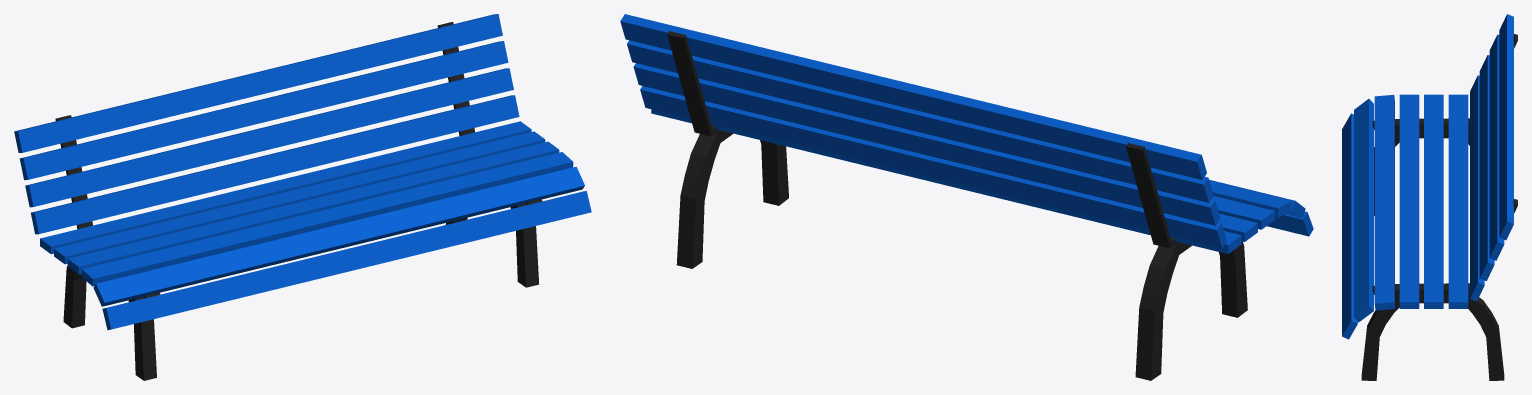
Rendered from bench_10.fbx.
3 views of the same model, side by side, from view 1: azimuth 30°, elevation 25°; view 2: azimuth 150°, elevation 25°; view 3: azimuth 270°, elevation 25° (orthographic). The views are drawn at different scales.
Parts seen in each view (by area): view 1: Куб.007, Куб.018, Куб.017, Куб.015, Куб.016, Куб.019, Куб, Куб.001, Куб.003, Куб.002, Куб.005, Куб.004; view 2: Куб.016, Куб.017, Куб.015, Куб.018, Куб.005, Куб.004, Куб.002, Куб, Куб.001, Куб.019, Куб.003; view 3: Куб.001, Куб.002, Куб, Куб.003, Куб.007, Куб.016, Куб.004, Куб.019, Куб.017, Куб.015, Куб.018, Куб.005.
Part boxes in pixels (box(x1,y1,x2,y2)): Куб.007: box(93, 166, 584, 306); Куб.018: box(31, 95, 519, 234); Куб.017: box(25, 68, 513, 207); Куб.015: box(19, 41, 508, 180); Куб.016: box(14, 14, 502, 152); Куб.019: box(102, 191, 591, 330); Куб: box(81, 152, 573, 286); Куб.001: box(67, 141, 559, 274); Куб.003: box(54, 131, 545, 264); Куб.002: box(40, 121, 531, 254); Куб.005: box(55, 115, 160, 380); Куб.004: box(437, 22, 542, 287); Куб.016: box(620, 14, 1206, 179); Куб.017: box(633, 63, 1220, 225); Куб.015: box(627, 40, 1213, 202); Куб.018: box(640, 86, 1226, 248); Куб.005: box(1126, 143, 1247, 380); Куб.004: box(667, 31, 788, 268); Куб.002: box(651, 109, 1241, 253); Куб: box(1209, 181, 1291, 217); Куб.001: box(1211, 196, 1274, 229); Куб.019: box(1267, 211, 1313, 236); Куб.003: box(1218, 213, 1257, 241); Куб.001: box(1399, 94, 1419, 308); Куб.002: box(1448, 94, 1468, 308); Куб: box(1374, 94, 1394, 310); Куб.003: box(1424, 94, 1443, 308); Куб.007: box(1354, 99, 1373, 322); Куб.016: box(1499, 14, 1513, 240); Куб.004: box(1361, 199, 1517, 380); Куб.019: box(1342, 113, 1357, 339); Куб.017: box(1479, 55, 1494, 280); Куб.015: box(1489, 34, 1504, 260); Куб.018: box(1470, 75, 1484, 301); Куб.005: box(1372, 34, 1517, 215).
Bounding box in the file's own units: 256 × 102 × 91.58.
